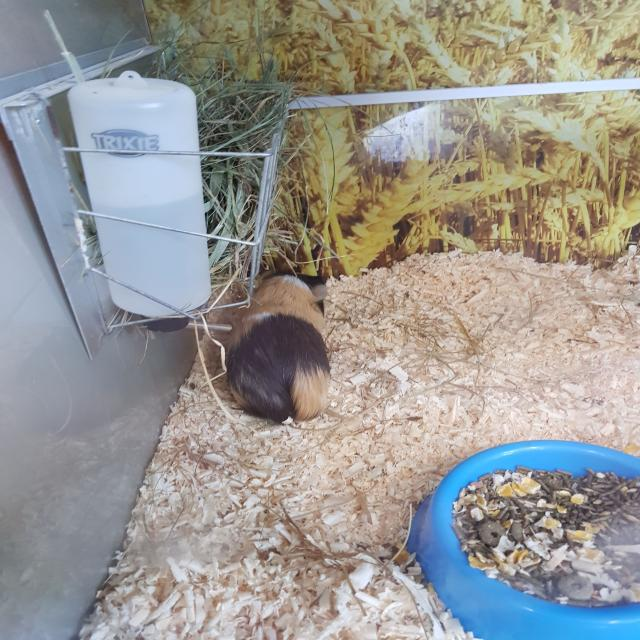guinea pig: (226, 268, 334, 422)
